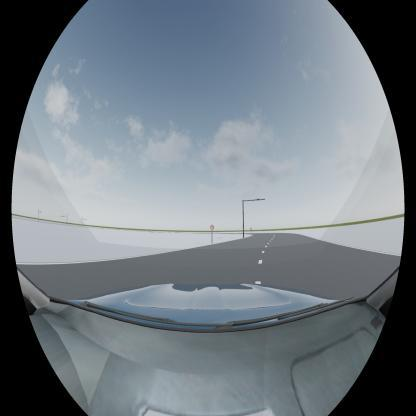Red Light: (257, 198, 260, 201)
